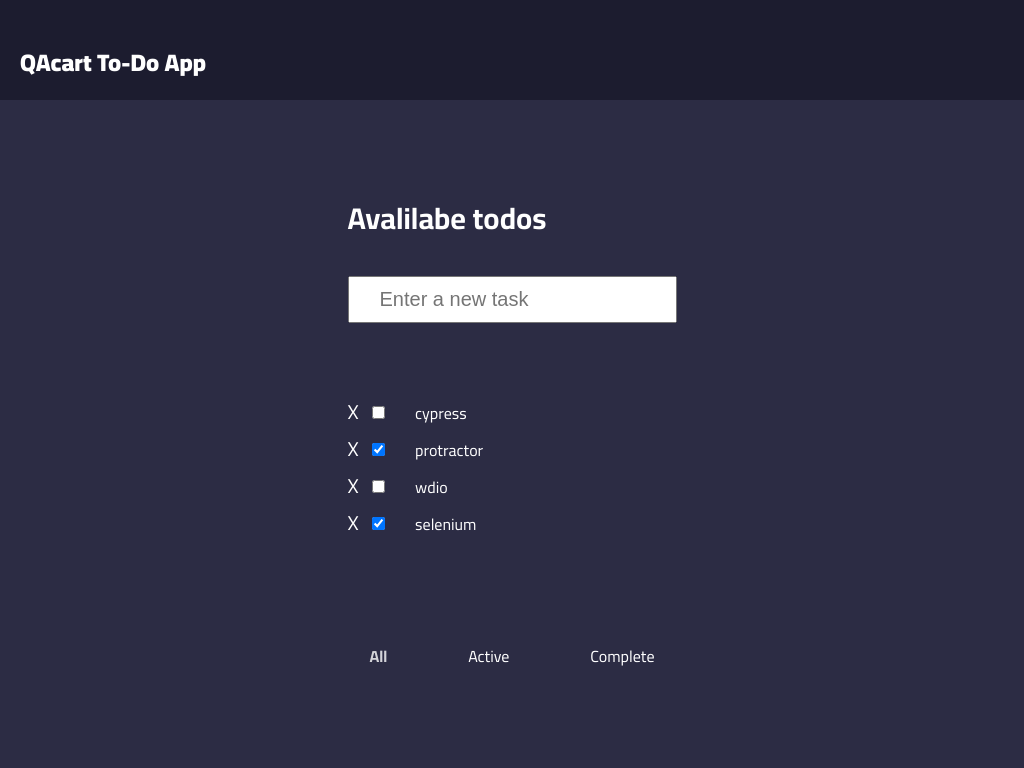
Test: Filter functionality test case › should be completed todos
Click the link "Complete". click: (622, 656)
box: [588,641,656,671]
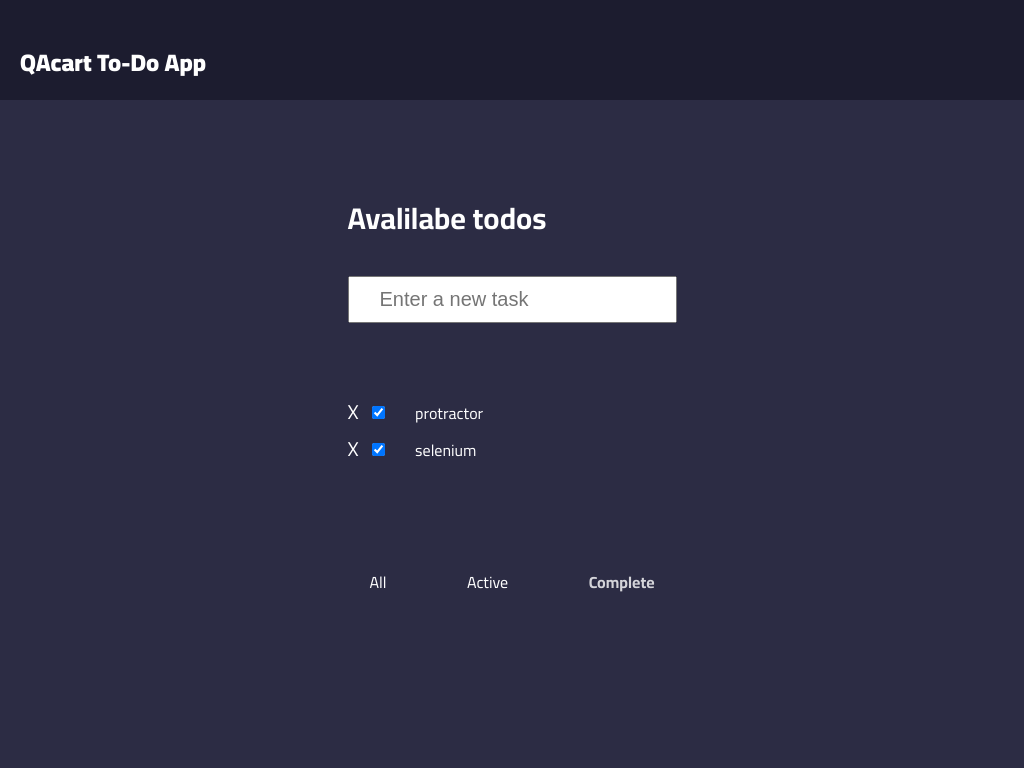
Check: the checkbox with class "todo-checkbox" next to "selenium" is checked, box [372,443,385,456]
Check: the checkbox with class "todo-checkbox" next to "protractor" is checked, box [372,406,385,419]
